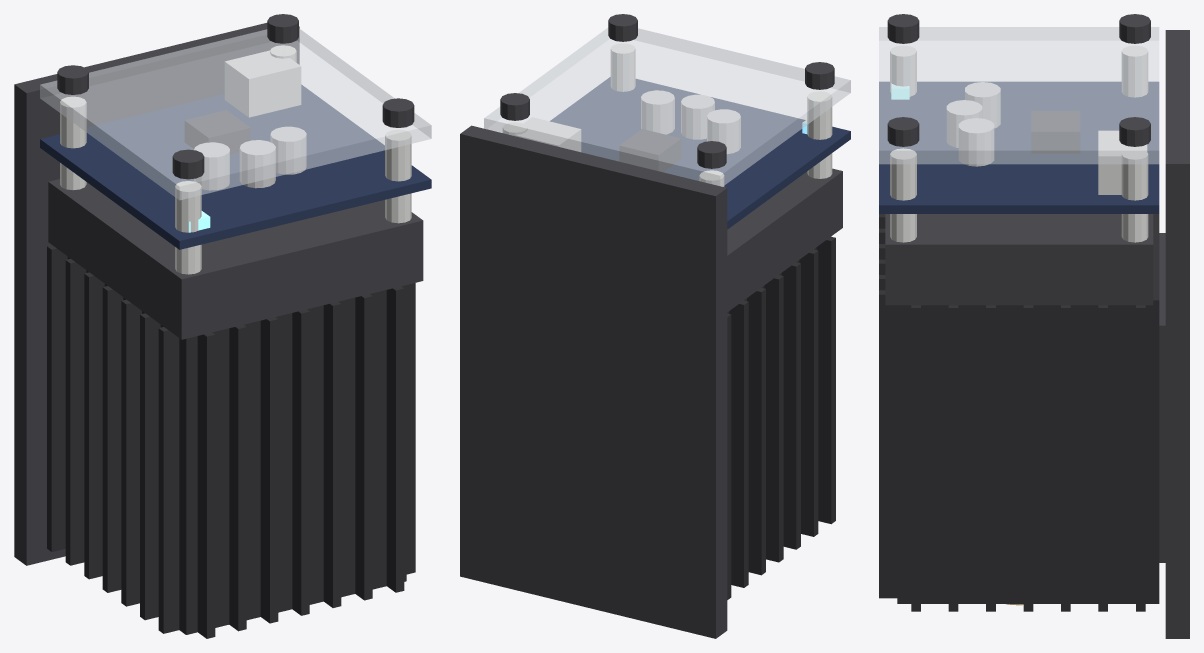
File: laser.glb
3 renders of one model, left to right at view 1: azimuth 30°, elevation 25°; view 2: azimuth 150°, elevation 25°; view 3: azimuth 270°, elevation 25°, orthographic. The views are drawn at different scales.
Visible parts, largest first — view 1: Z_Head_LaserCover, Z_Head_LaserHeatsink, Z_Head_LaserFan, Z_Head_LaserBracket, Z_Head_LaserPcb, Z_Head_LaserFinL1, Z_Head_LaserFinL4, Z_Head_LaserFinL6, Z_Head_LaserFinF3, Z_Head_LaserFinF7, Z_Head_LaserFinF1, Z_Head_LaserFinF5 (+20 smaller); view 2: Z_Head_LaserBracket, Z_Head_LaserCover, Z_Head_LaserPcb, Z_Head_LaserFan, Z_Head_LaserFinL4, Z_Head_LaserFinL2, Z_Head_LaserFinL6, Z_Head_LaserFinL1, Z_Head_LaserFinL3, Z_Head_LaserFinL5, Z_Head_LaserCoil, Z_Head_LaserStandoff1 (+10 smaller); view 3: Z_Head_LaserHeatsink, Z_Head_LaserCover, Z_Head_LaserPcb, Z_Head_LaserFan, Z_Head_LaserBracket, Z_Head_LaserFinF7, Z_Head_LaserFinR2, Z_Head_LaserFinR4, Z_Head_LaserFinR1, Z_Head_LaserFinR3, Z_Head_LaserFinR5, Z_Head_LaserFinR6 (+15 smaller).
Boxes of the visible parts, x1,y1,x2,y2 form: Z_Head_LaserCover: (40,28,431,200); Z_Head_LaserHeatsink: (67,256,406,634); Z_Head_LaserFan: (48,179,423,339); Z_Head_LaserBracket: (14,23,299,565); Z_Head_LaserPcb: (40,85,431,249); Z_Head_LaserFinL1: (158,327,179,633); Z_Head_LaserFinL4: (102,286,123,592); Z_Head_LaserFinL6: (65,258,86,565); Z_Head_LaserFinF3: (260,317,278,623); Z_Head_LaserFinF7: (386,286,404,592); Z_Head_LaserFinF1: (197,332,215,638); Z_Head_LaserFinF5: (323,302,341,607); Z_Head_LaserBracket: (460,125,727,638); Z_Head_LaserCover: (484,28,850,186); Z_Head_LaserPcb: (550,77,850,229); Z_Head_LaserFan: (727,168,842,311); Z_Head_LaserFinL4: (764,275,783,562); Z_Head_LaserFinL2: (799,249,818,536); Z_Head_LaserFinL6: (729,300,748,587); Z_Head_LaserFinL1: (816,236,835,524); Z_Head_LaserFinL3: (781,262,800,549); Z_Head_LaserFinL5: (747,287,765,575); Z_Head_LaserCoil: (619,129,681,171); Z_Head_LaserStandoff1: (807,91,832,178); Z_Head_LaserHeatsink: (897,214,1159,603); Z_Head_LaserCover: (879,27,1159,164); Z_Head_LaserPcb: (879,82,1159,213); Z_Head_LaserFan: (885,214,1153,305); Z_Head_LaserBracket: (1165,30,1189,638); Z_Head_LaserFinF7: (879,290,897,598); Z_Head_LaserFinR2: (948,305,958,611); Z_Head_LaserFinR4: (1023,305,1033,611); Z_Head_LaserFinR1: (911,305,920,611); Z_Head_LaserFinR3: (986,305,995,611); Z_Head_LaserFinR5: (1061,305,1070,611); Z_Head_LaserFinR6: (1098,305,1107,611).
Size of the model in its own units: 52 by 93.5 by 51.
